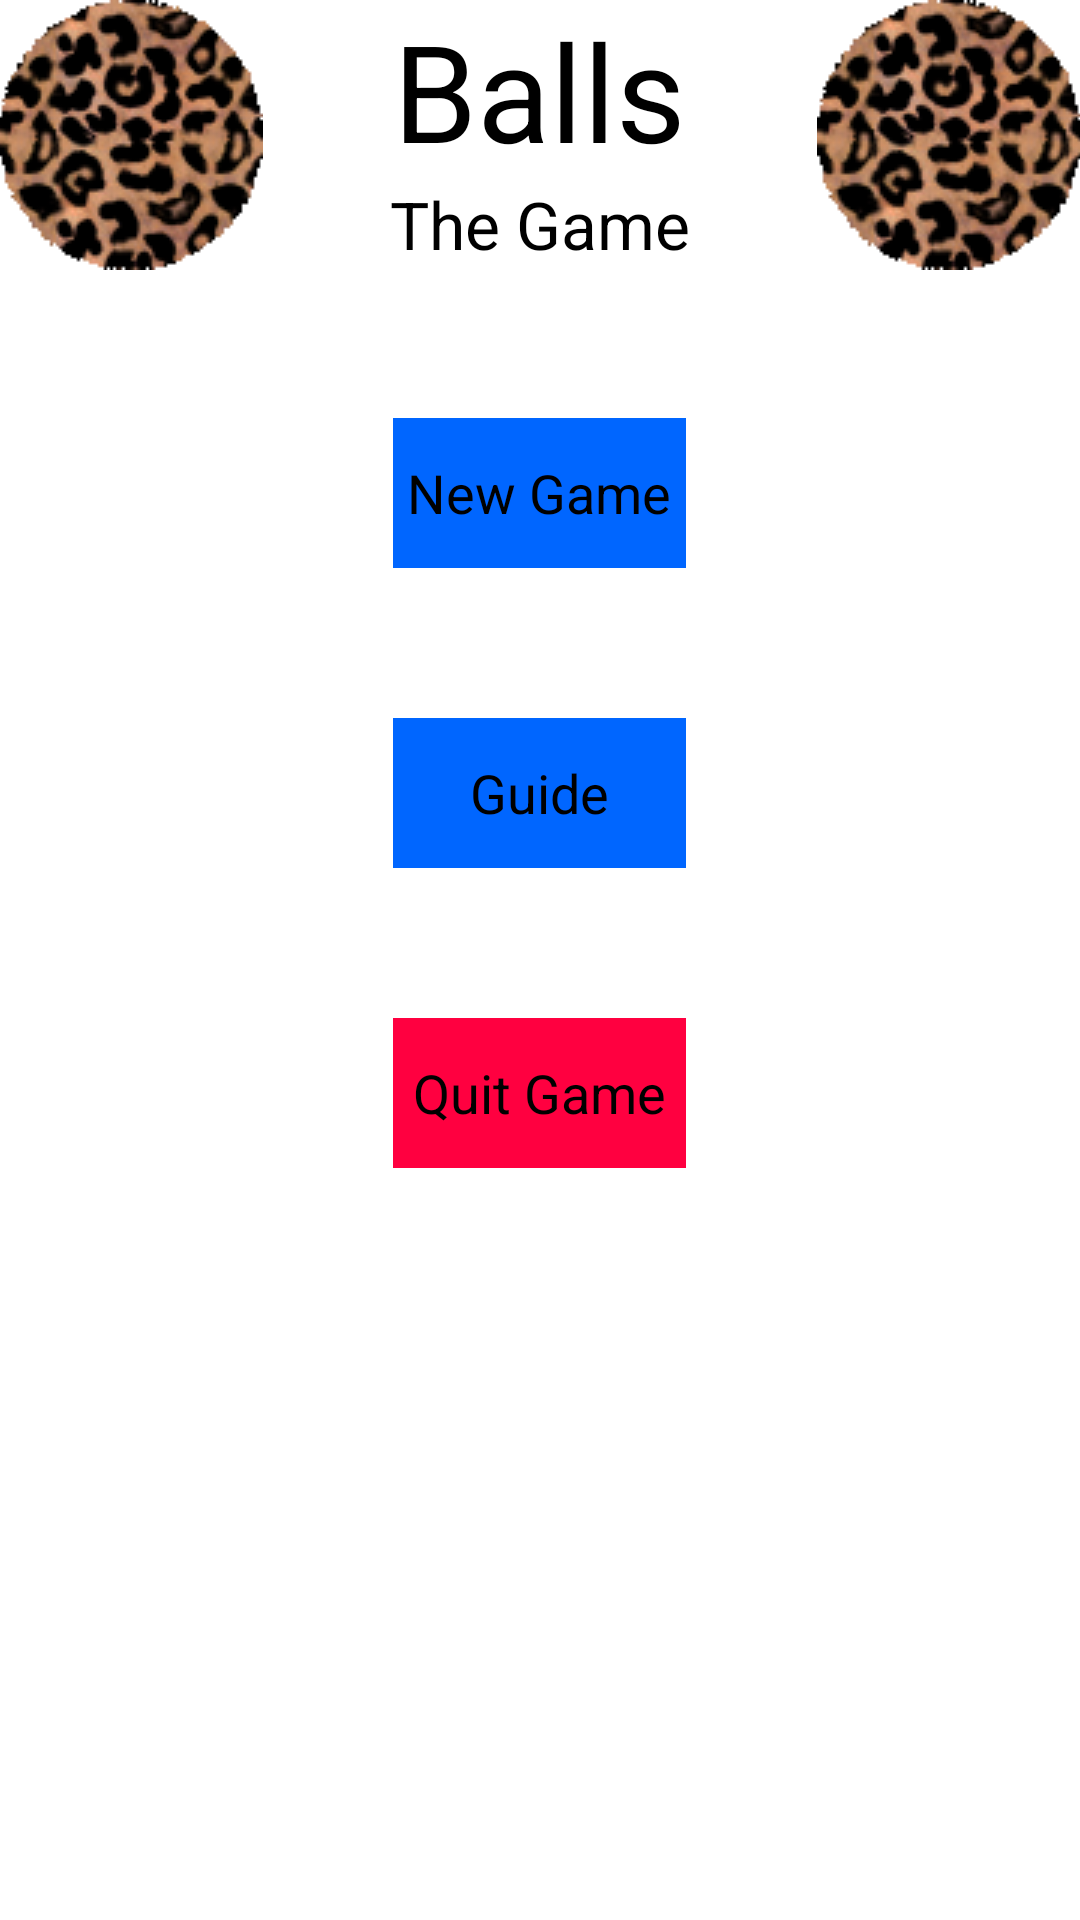

Icon bounding boxes for this 1080px x 1920px phone screenshot, format (x1, y1, x2, y2):
Leopard: (0, 0, 263, 270), (817, 0, 1080, 270)
